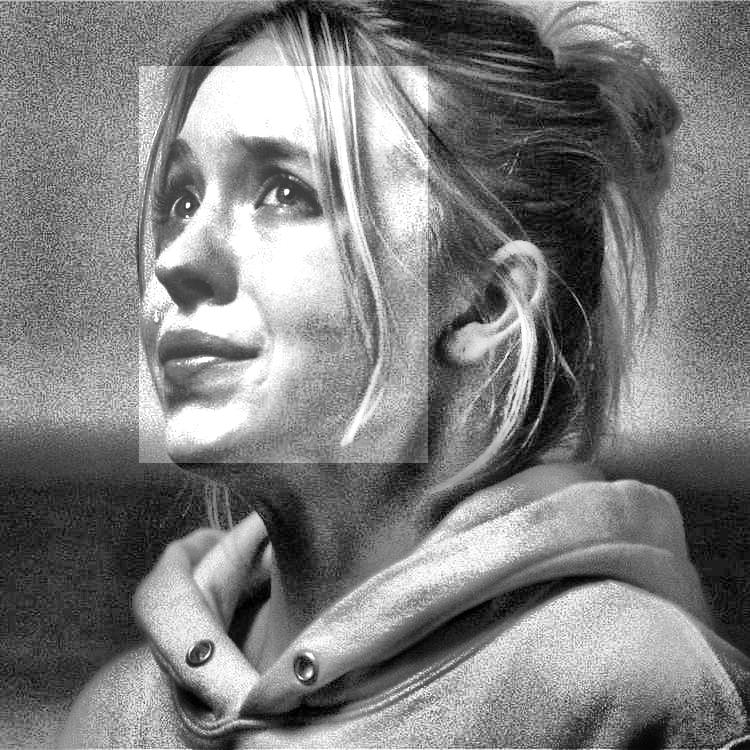sad: (140, 66, 429, 463)
